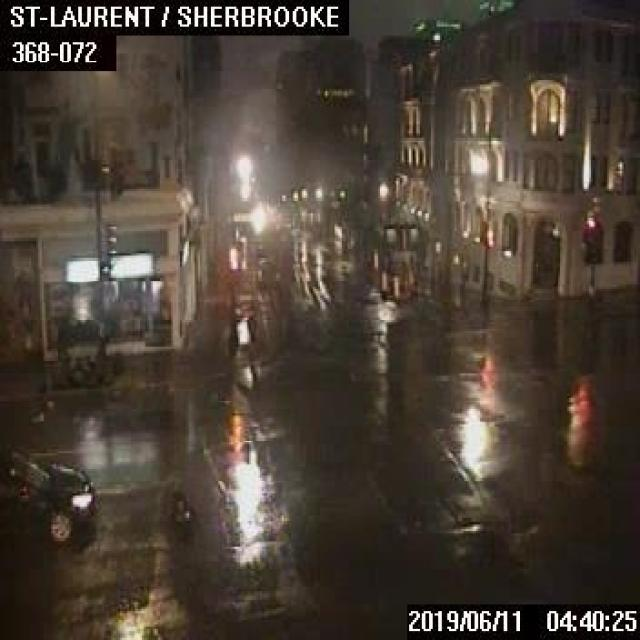vehicle: (0, 447, 93, 538)
